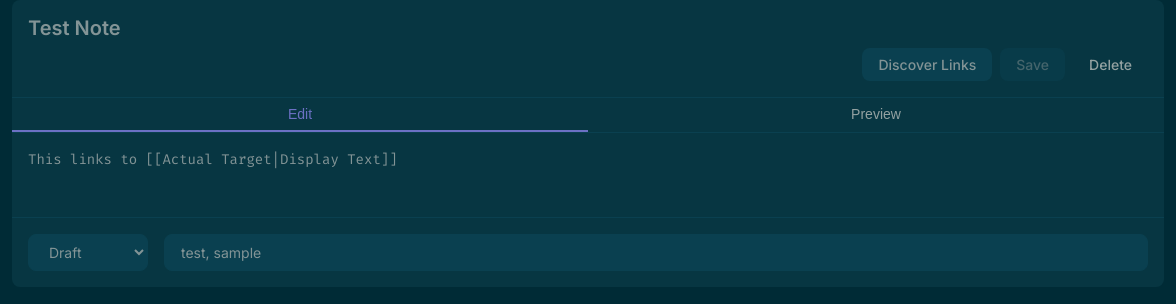
Test: NoteEditor › Wikilink Rendering › renders wikilinks with display text [ [Target|Display]]
Step 1. Click the button with class "tab-btn" showing "Preview" → click(876, 115), box [588,98,1164,132]
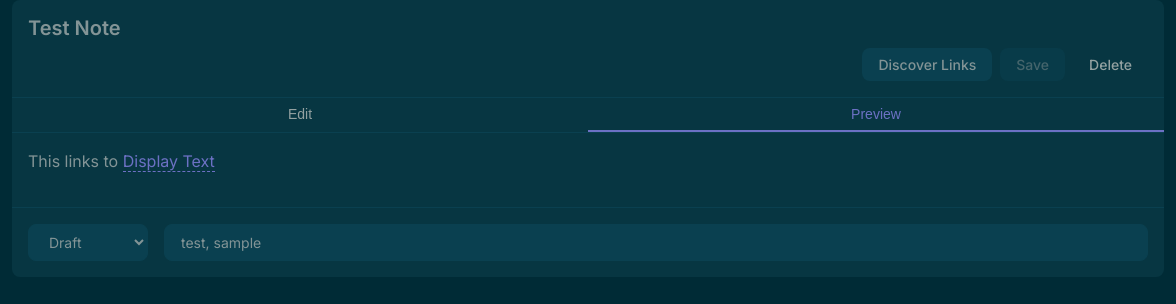
Expected: the element with class "editor-preview" shows "Display Text", [123,151,215,171]
